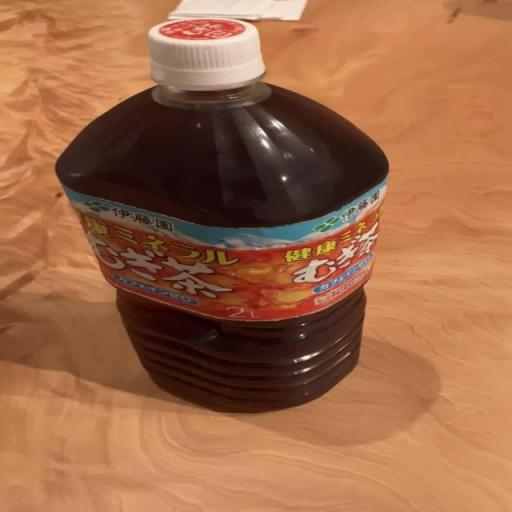plastic: (55, 9, 391, 416)
